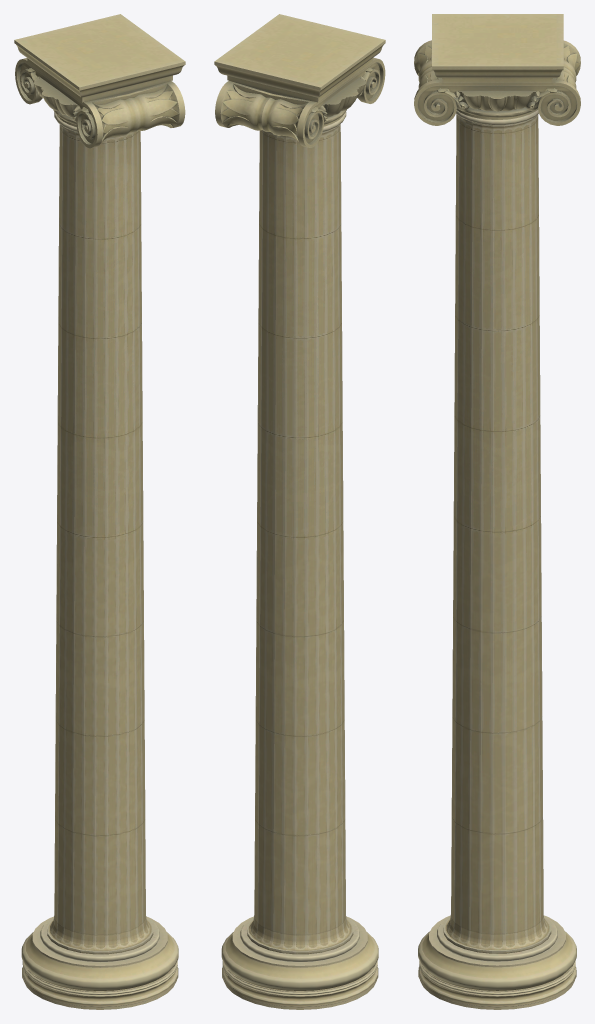
File: Shaft_01.glb
3 renders of one model, left to right at view 1: azimuth 30°, elevation 25°; view 2: azimuth 150°, elevation 25°; view 3: azimuth 270°, elevation 25°, orthographic.
Parts seen in each view (by area): view 1: Shaft_01(Clone); view 2: Shaft_01(Clone); view 3: Shaft_01(Clone).
Part boxes in pixels (x1=…): Shaft_01(Clone): x1=14, y1=14, x2=185, y2=1009; Shaft_01(Clone): x1=214, y1=14, x2=385, y2=1009; Shaft_01(Clone): x1=414, y1=14, x2=580, y2=1009.
Size of the model in its own units: 2.69 by 17.38 by 2.81.
Materials: 2 (2 with a texture image).
